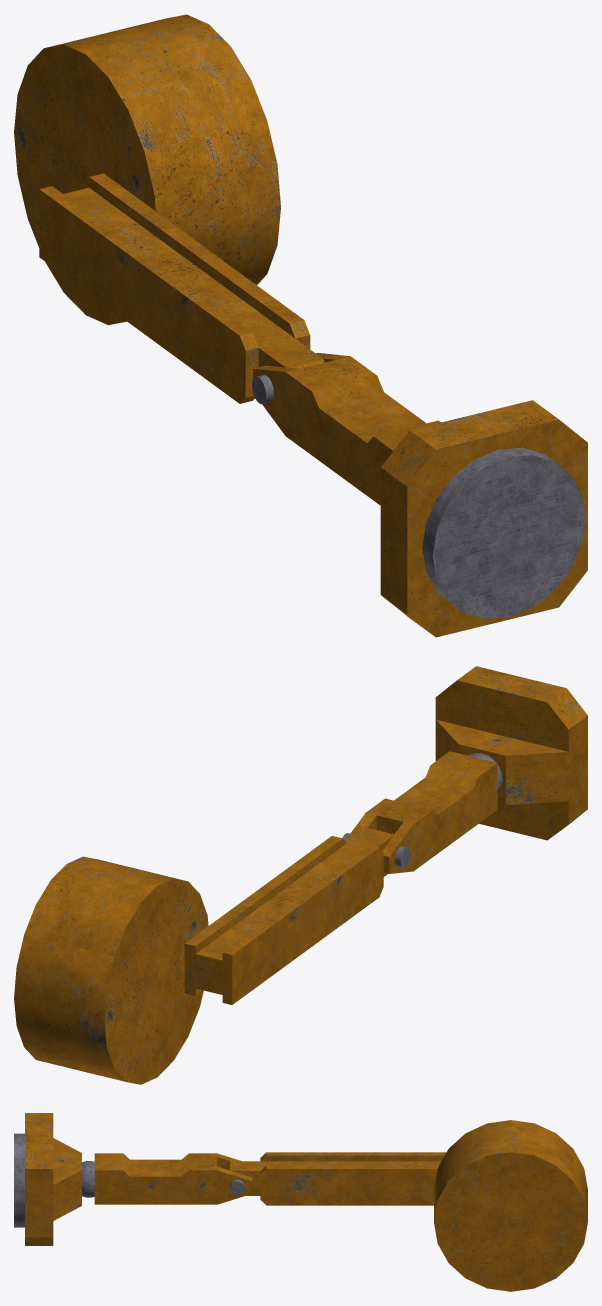
File: MechRightArm.fbx
3 renders of one model, top to bottom at view 1: azimuth 30°, elevation 25°; view 2: azimuth 150°, elevation 25°; view 3: azimuth 270°, elevation 25°, orthographic. The views are drawn at different scales.
Parts seen in each view (by area): view 1: Shoulder, Bicep, Magnet, Hand, Forearm; view 2: Shoulder, Hand, Bicep, Forearm; view 3: Shoulder, Bicep, Forearm, Hand, Magnet, Wrist.
Part boxes in pixels (left/top/right/bottom): Shoulder: left=14, top=14, right=280, bottom=325; Bicep: left=39, top=173, right=324, bottom=403; Magnet: left=422, top=447, right=585, bottom=618; Hand: left=380, top=400, right=587, bottom=637; Forearm: left=253, top=353, right=440, bottom=505; Shoulder: left=14, top=856, right=208, bottom=1084; Hand: left=435, top=666, right=587, bottom=840; Bicep: left=184, top=828, right=393, bottom=1004; Forearm: left=345, top=751, right=497, bottom=873; Shoulder: left=434, top=1120, right=587, bottom=1291; Bicep: left=223, top=1152, right=446, bottom=1205; Forearm: left=94, top=1153, right=252, bottom=1204; Hand: left=25, top=1113, right=81, bottom=1245; Magnet: left=14, top=1133, right=24, bottom=1227; Wrist: left=82, top=1161, right=94, bottom=1197.
Size of the model in its own units: 1.14 by 1.11 by 4.13.
